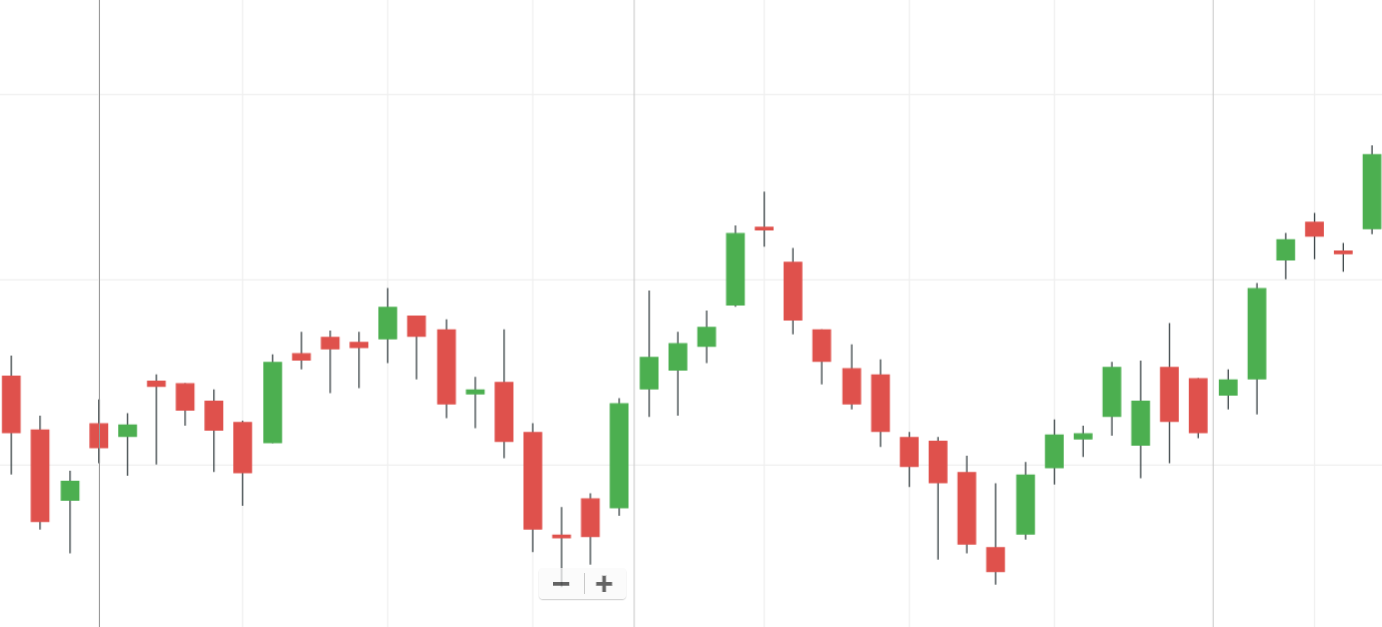doji: (141, 358, 174, 472), (314, 315, 345, 400), (459, 364, 490, 439), (546, 495, 576, 572), (346, 323, 374, 399), (114, 407, 141, 480), (750, 181, 776, 253), (1335, 237, 1357, 283)
